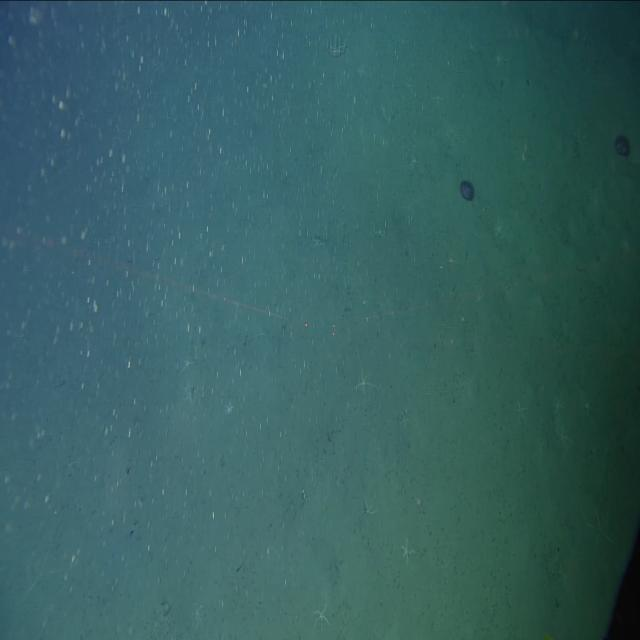Brittle Star: (351, 358, 379, 401), (309, 595, 333, 634), (397, 532, 417, 568)
Not Brittle Star: (612, 130, 633, 162), (458, 176, 476, 204)
